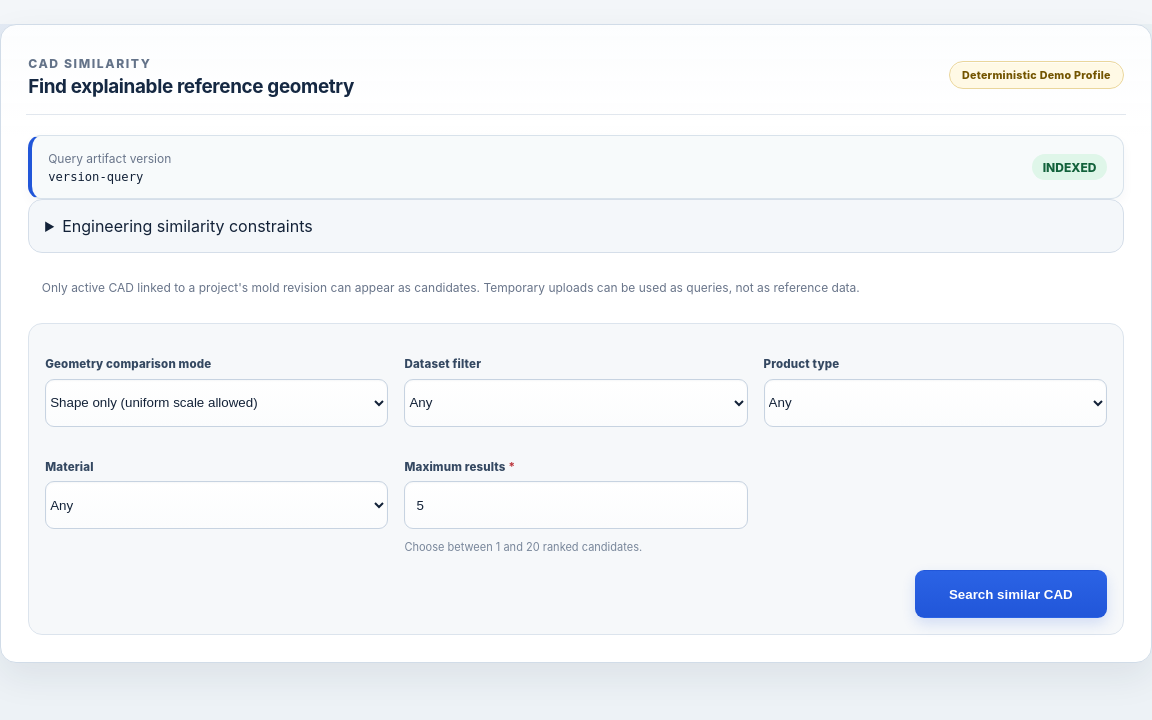
Scenario: SimilarityWorkspace › keeps all filters as peer fields and separates the search action from helper text
The width and height of the screenshot is (1152, 720).
Check: the number of labels with class "form-field" is 5, box [45,340,388,427]; [404,340,748,427]; [764,340,1107,427]; [45,443,388,529]; [404,443,748,554]
Select "Actual size (known units required)" in the dropdown with test id "comparison-mode": (217, 403) [45,379,388,427]
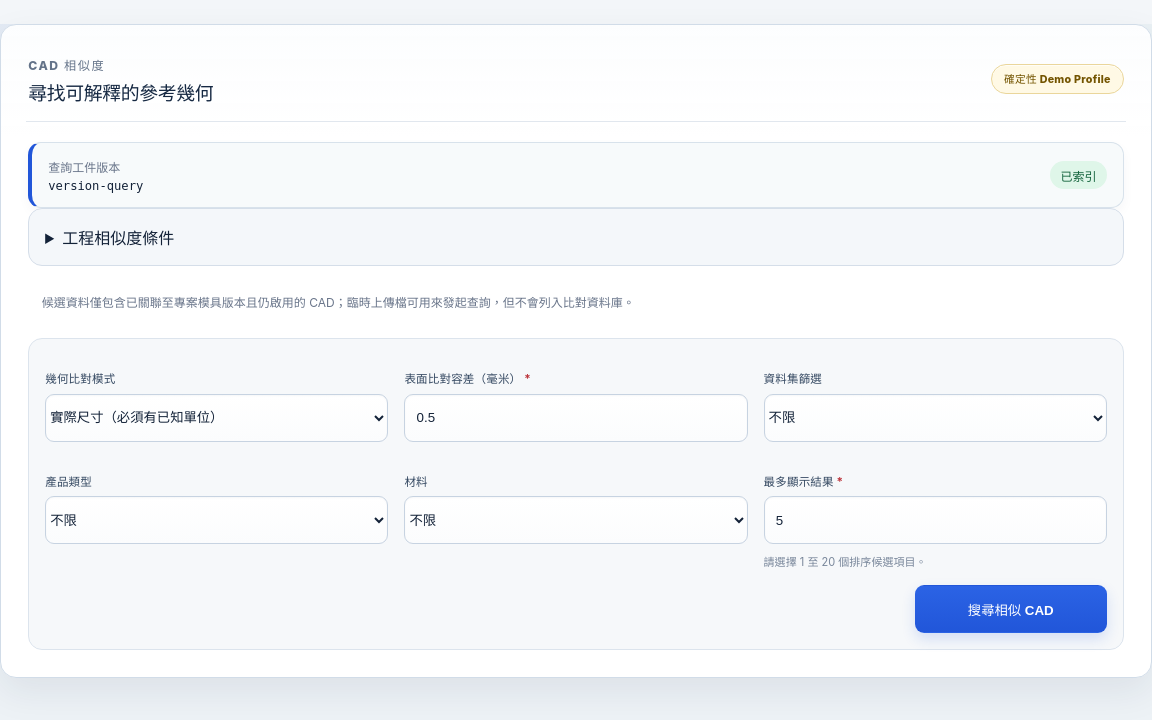
Check: the number of labels with class "form-field" is 6, box [45,355,388,442]; [404,355,748,442]; [764,355,1107,442]; [45,458,388,544]; [404,458,748,544]; [764,458,1107,569]
Check: the element with class "similarity-filter-grid" shows "表面比對容差", box [404,372,521,386]
Check: the text with test id "reference-cad-policy" shows "臨時上傳檔可用來發起查詢", box [42,296,635,310]
Select "只比外形（允許等比例縮放）" in the dropdown with test id "comparison-mode": (217, 418) [45,394,388,442]
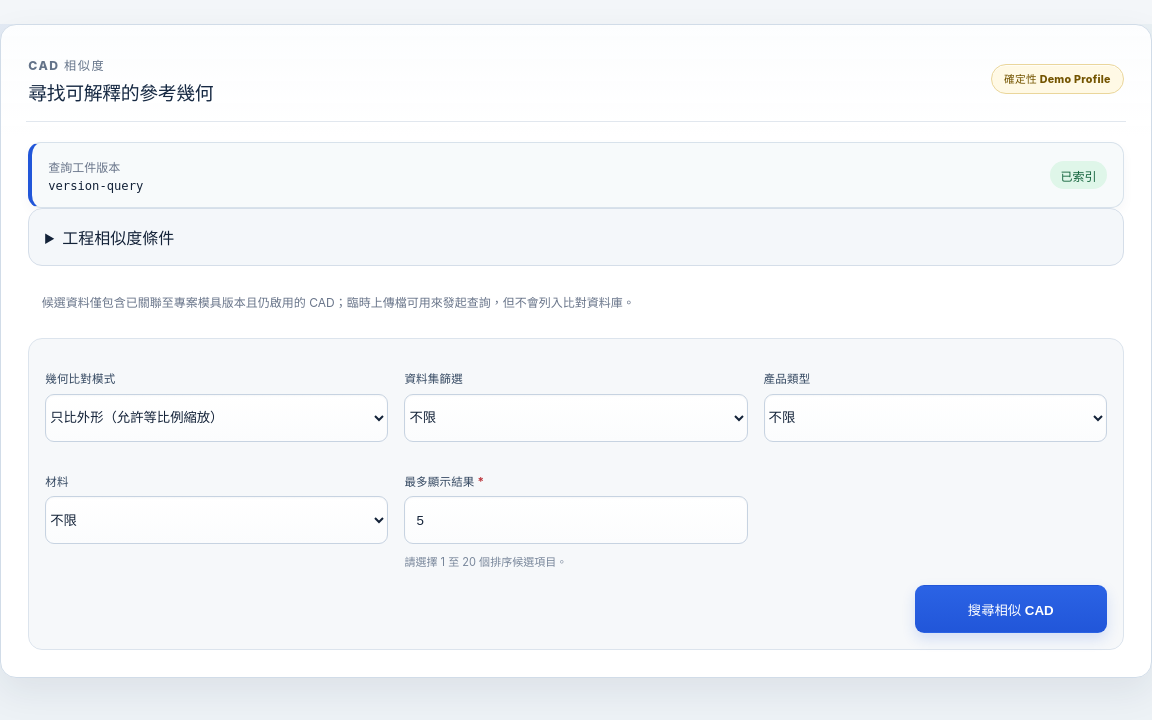
Check: the number of labels with class "form-field" is 5, box [45,355,388,442]; [404,355,748,442]; [764,355,1107,442]; [45,458,388,544]; [404,458,748,569]
